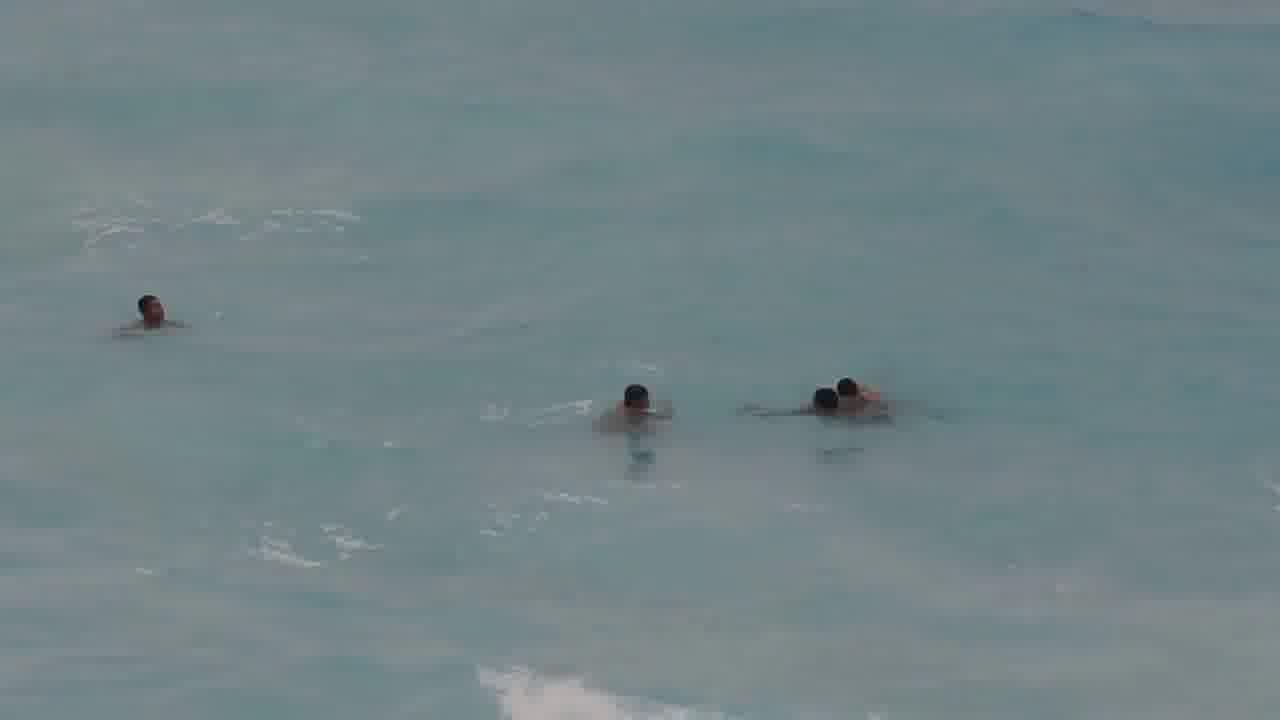swimmer: (805, 372, 876, 439), (607, 379, 677, 437), (833, 358, 903, 409), (127, 289, 187, 338)
